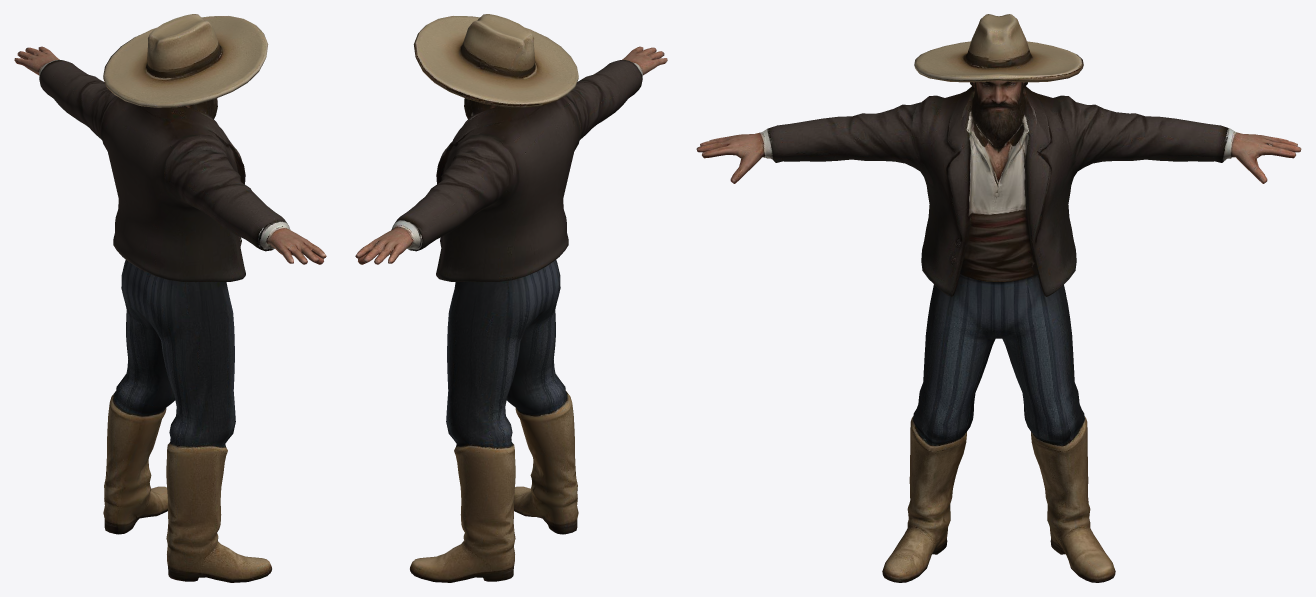
File: Ze_3dai_retopo.fbx
3 views of the same model, side by side, from view 1: azimuth 30°, elevation 25°; view 2: azimuth 150°, elevation 25°; view 3: azimuth 270°, elevation 25° (orthographic). The views are drawn at different scales.
Parts seen in each view (by area): view 1: tripo_node_3bbb6d70; view 2: tripo_node_3bbb6d70; view 3: tripo_node_3bbb6d70.
Boxes of the visible parts, x1,y1,x2,y2 form: tripo_node_3bbb6d70: [14, 14, 326, 582]; tripo_node_3bbb6d70: [355, 14, 667, 582]; tripo_node_3bbb6d70: [696, 14, 1301, 582].
Bounding box in the file's own units: 0.2834 × 0.9956 × 0.9994.
Materials: 1 (1 with a texture image).
